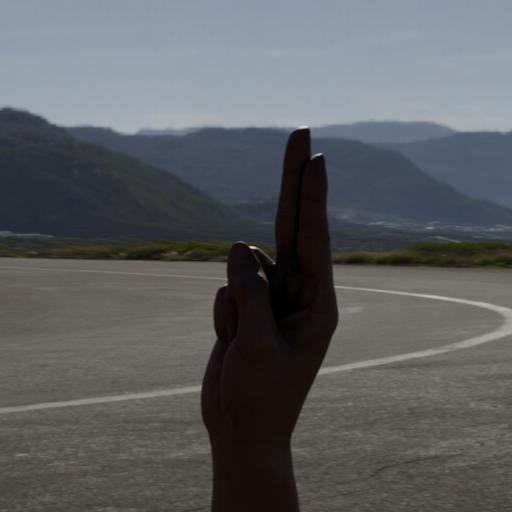U: (185, 117, 364, 495)
